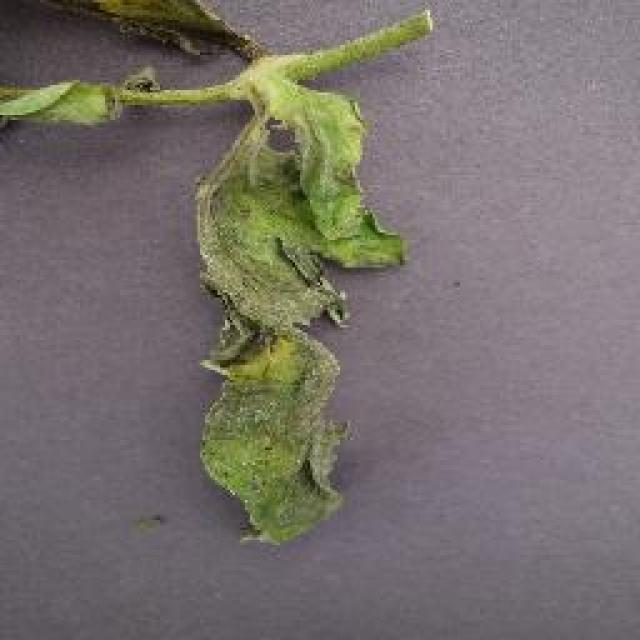Tomato late blight leaf: (196, 87, 412, 546)
